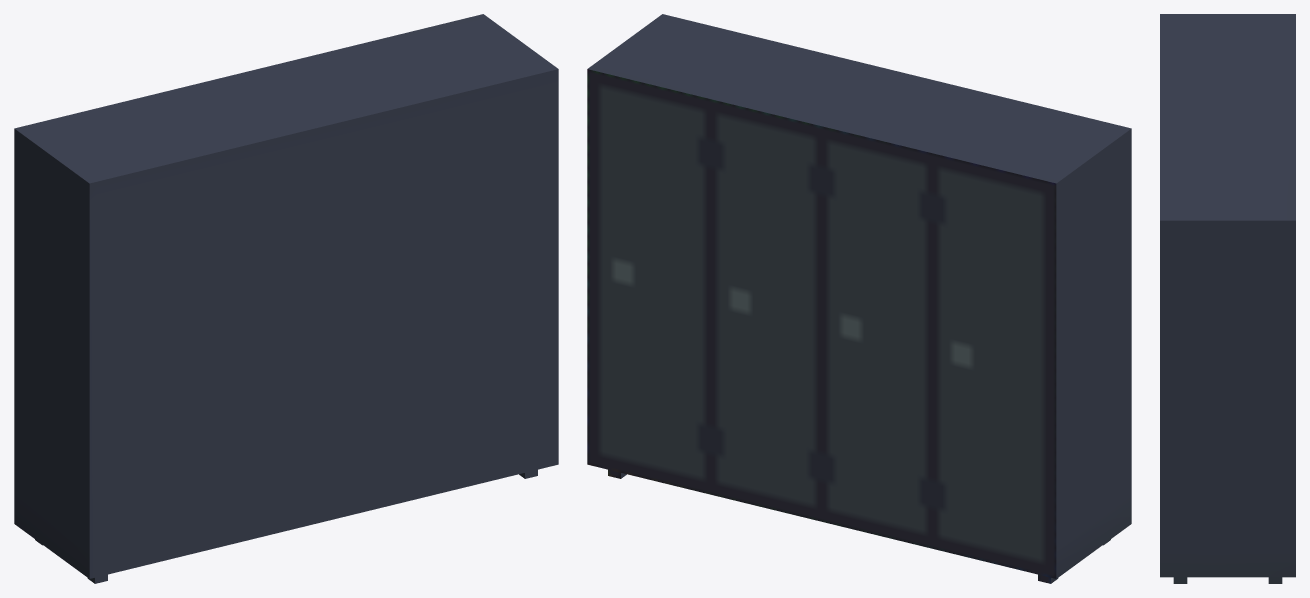
File: Lockers.fbx
3 views of the same model, side by side, from view 1: azimuth 30°, elevation 25°; view 2: azimuth 150°, elevation 25°; view 3: azimuth 270°, elevation 25° (orthographic). The views are drawn at different scales.
Parts seen in each view (by area): view 1: Lockers; view 2: Lockers; view 3: Lockers.
Part boxes in pixels (x1,y1,x2,y2): Lockers: (14,14,558,583); Lockers: (587,14,1131,583); Lockers: (1160,14,1295,583).
Bounding box in the file's own units: 225 × 62.5 × 188.
